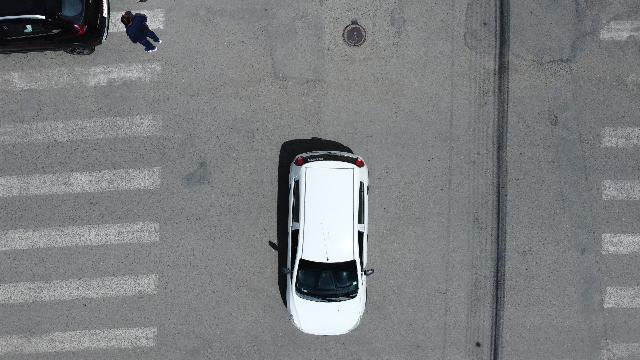Vehiculo: (278, 140, 374, 336), (0, 0, 110, 56)
